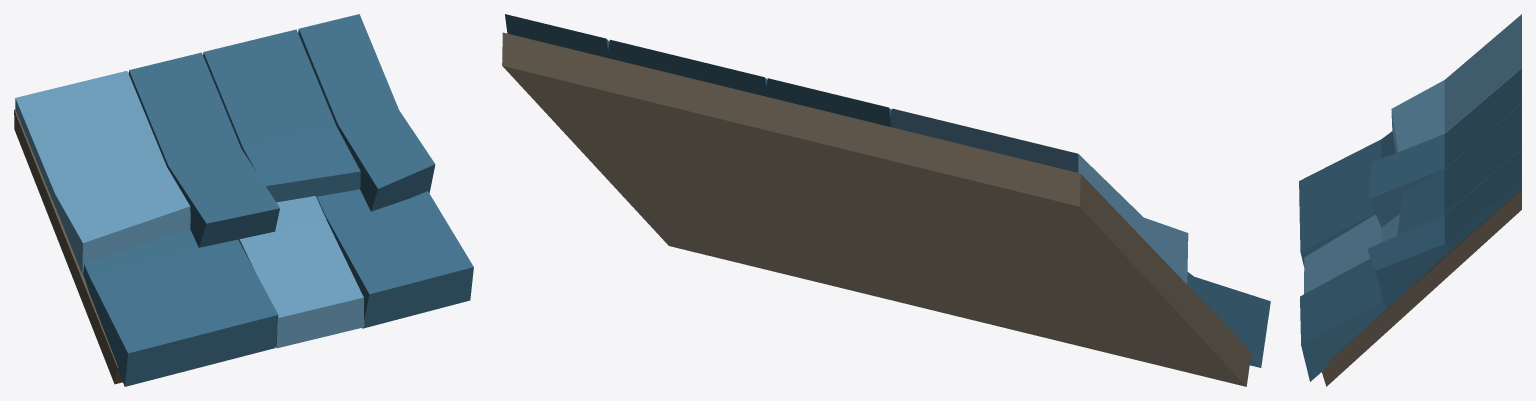
The model's file is ROOF_base_small_1.glb.
The picture shows the model from 3 angles, left to right: view 1: azimuth 30°, elevation 25°; view 2: azimuth 150°, elevation 25°; view 3: azimuth 270°, elevation 25°; orthographic projection. The views are drawn at different scales.
Parts seen in each view (by area): view 1: ROOF_base_small_1; view 2: ROOF_base_small_1; view 3: ROOF_base_small_1.
Part boxes in pixels (x1=…): ROOF_base_small_1: x1=14, y1=14, x2=473, y2=386; ROOF_base_small_1: x1=502, y1=14, x2=1270, y2=386; ROOF_base_small_1: x1=1299, y1=14, x2=1521, y2=386.
Size of the model in its own units: 1 by 0.587 by 0.57.
1 material, 1 textured.
